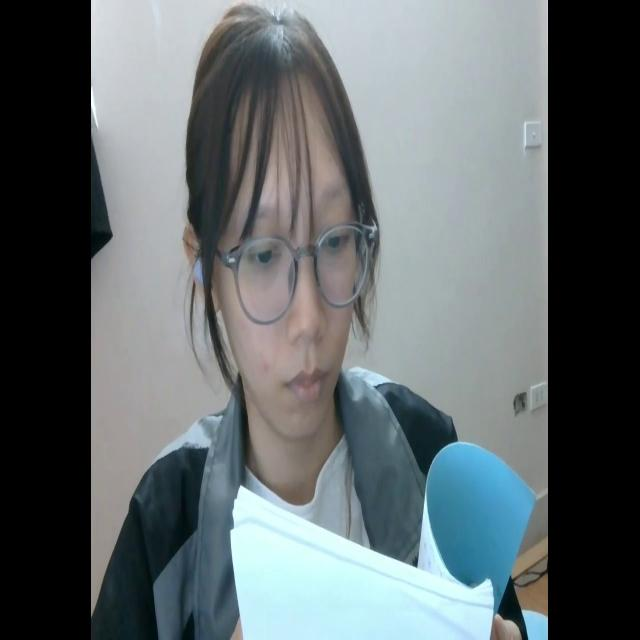book: (224, 440, 535, 640)
student: (103, 1, 529, 640)
